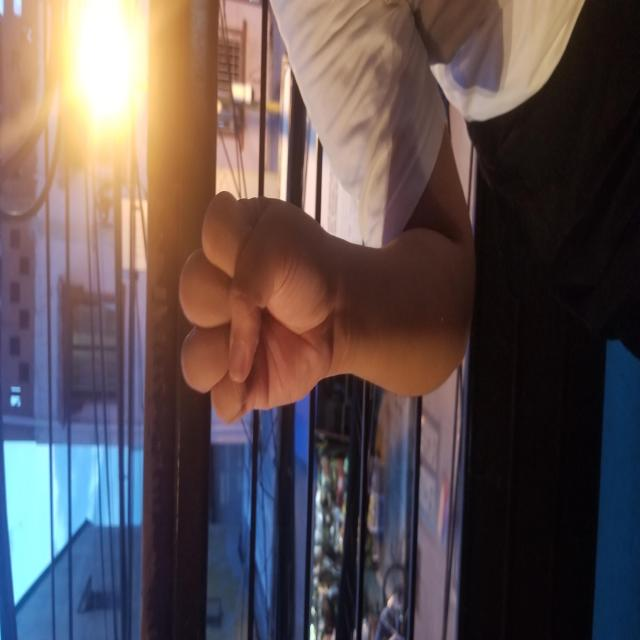S: (212, 175, 450, 340)
